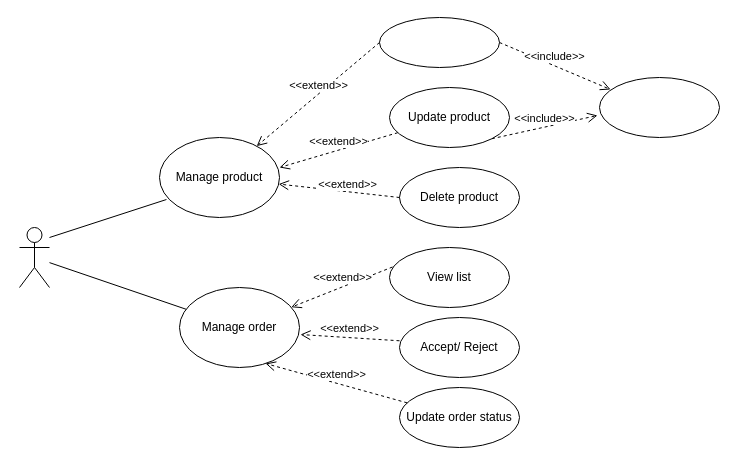
Image size: 737x465. Some labels were removed from this diagram. The shapes that lost their labels are listed below. From the top down, each one's centre as x and y in pixels, then its label:
pixel 439 42: Add product
pixel 659 107: Upload image file
pixel 34 257: Admin
